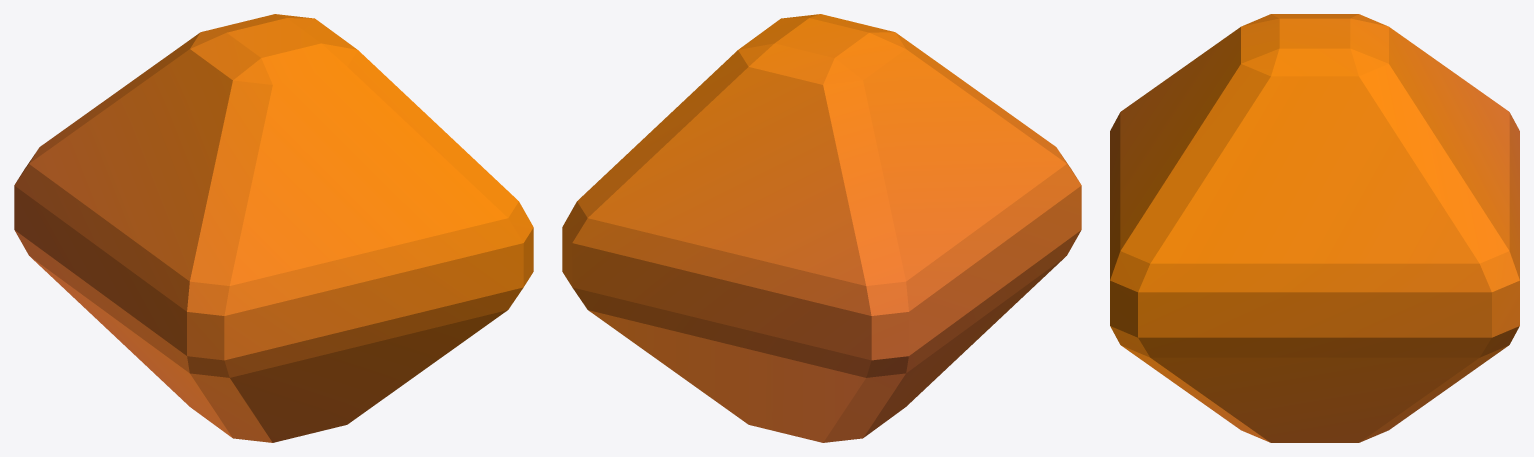
The model's file is LemonStone.fbx.
3 renders of one model, left to right at view 1: azimuth 30°, elevation 25°; view 2: azimuth 150°, elevation 25°; view 3: azimuth 270°, elevation 25°, orthographic. The views are drawn at different scales.
Visible parts, largest first — view 1: LEMON STONE .001; view 2: LEMON STONE .001; view 3: LEMON STONE .001.
Boxes of the visible parts, x1,y1,x2,y2 form: LEMON STONE .001: (14, 14, 533, 442); LEMON STONE .001: (562, 14, 1081, 442); LEMON STONE .001: (1110, 14, 1519, 442).
Bounding box in the file's own units: 136 × 143 × 136.
1 material, 1 textured.
